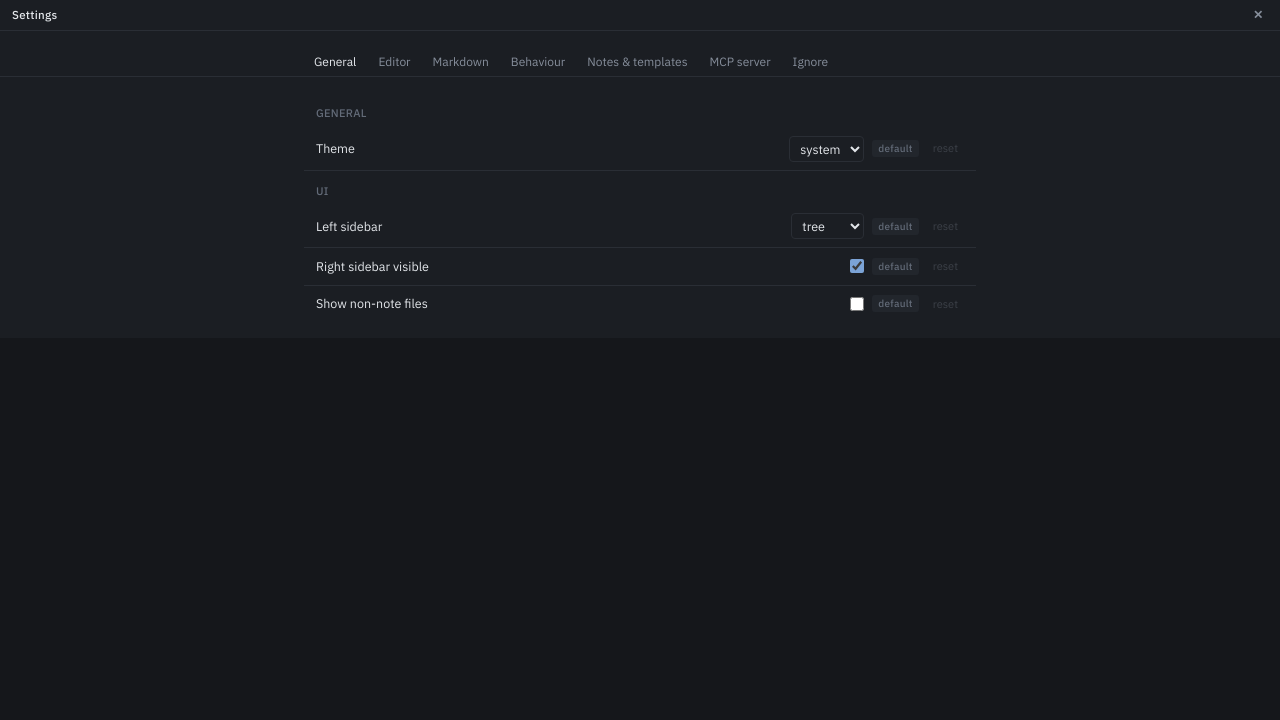
Test case: SettingsPanel › Templates / New notes / Daily notes (M10.26) › renders all three new sections
The image size is (1280, 720).
Click the tab "Notes & templates" at coordinates (637, 62), box [577,47,698,77]
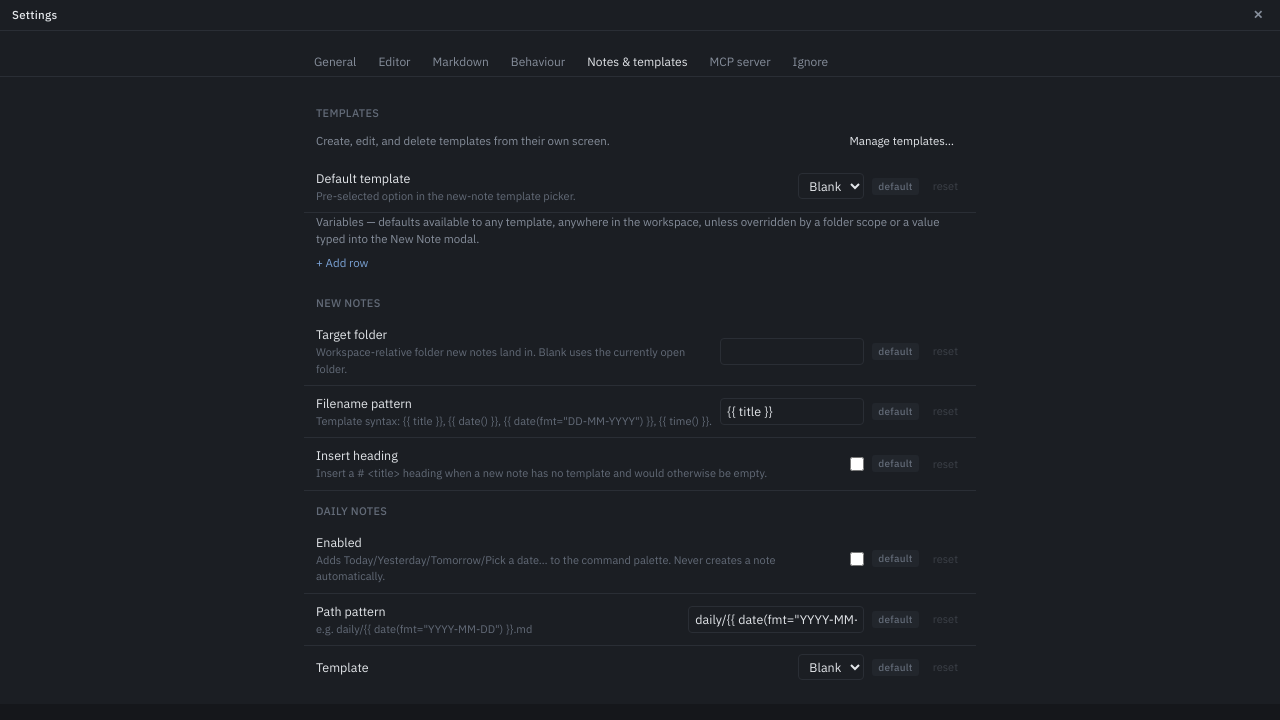
Now the text "Templates" is shown, box [316,106,379,120]
Now the text "New notes" is shown, box [316,296,380,310]
Now the text "Daily notes" is shown, box [316,504,387,518]
